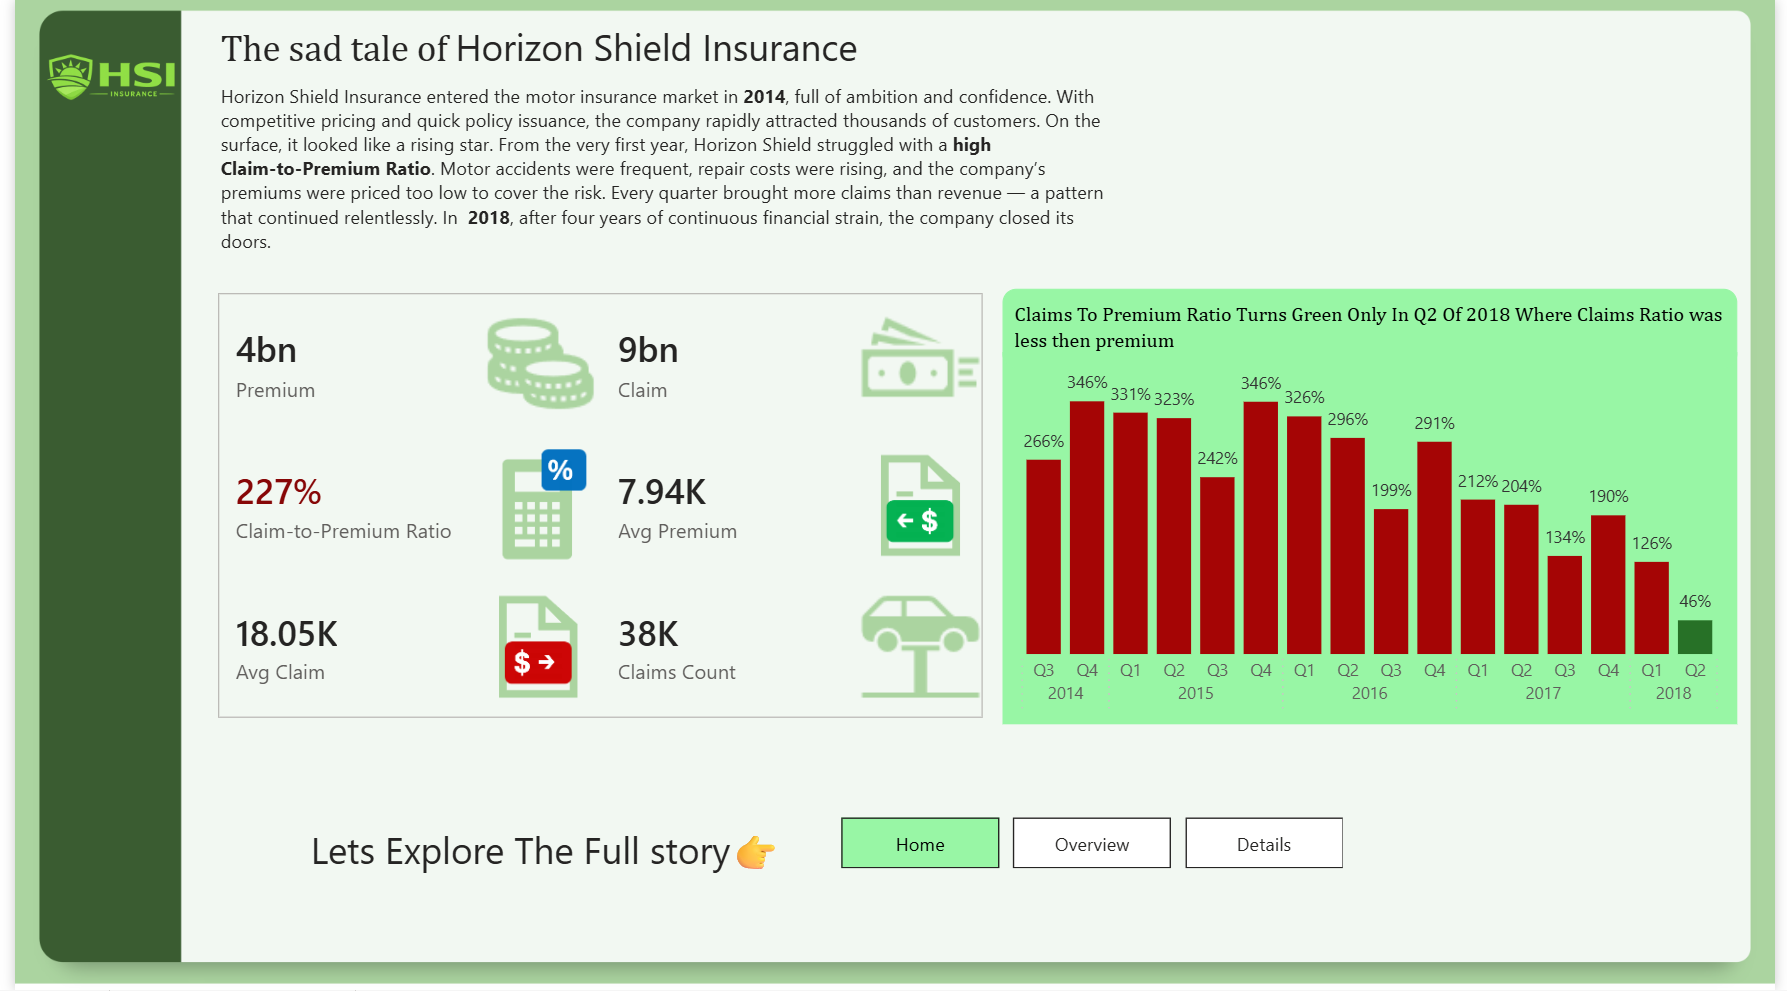

Layout of this report page (visuals, bound fields, positions):
{"tool":"powerbi","page":{"name":"Home","canvas":[1280,720],"ordinal":0},"visuals":[{"type":"clusteredColumnChart","fields":{"Category":["Calendar.Year","Calendar.Quarter"],"Y":["Meaure atble.Loss Ratio"]},"box":[718,256,534.3,270.5],"z":0},{"type":"textbox","box":[718,210.4,534.3,57.9],"z":1000},{"type":"cardVisual","fields":{"Data":["Meaure atble.Total Premium","Meaure atble.Total Claim","Meaure atble.Premium to Claim Ratio","Meaure atble.Avg Premium","Meaure atble.Avg Claim2","Meaure atble.Claim Count2"]},"box":[144.7,210.4,563.3,316.1],"z":2000},{"type":"textbox","box":[144.7,11.1,617.8,52.3],"z":3000},{"type":"image","box":[22.3,20,98,73.5],"z":4000},{"type":"textbox","box":[144.7,55.7,667.9,143.6],"z":5000},{"type":"pageNavigator","box":[601.1,594.4,365.1,37.8],"z":6000},{"type":"textbox","box":[210.4,594.4,359.6,60.1],"z":7000}]}

Visuals, with their boxes in screenshot pixels (x1, y1, x2, y2), scaled from the page's 1280x720 canvas onto the 1787x991 screenshot:
clusteredColumnChart - Calendar.Year x Calendar.Quarter: {"left": 1002, "top": 352, "right": 1748, "bottom": 725}
textbox: {"left": 1002, "top": 290, "right": 1748, "bottom": 369}
cardVisual - Meaure atble.Total Premium x Meaure atble.Total Claim: {"left": 202, "top": 290, "right": 988, "bottom": 725}
textbox: {"left": 202, "top": 15, "right": 1065, "bottom": 87}
image: {"left": 31, "top": 28, "right": 168, "bottom": 129}
textbox: {"left": 202, "top": 77, "right": 1134, "bottom": 274}
pageNavigator: {"left": 839, "top": 818, "right": 1349, "bottom": 870}
textbox: {"left": 294, "top": 818, "right": 796, "bottom": 901}
